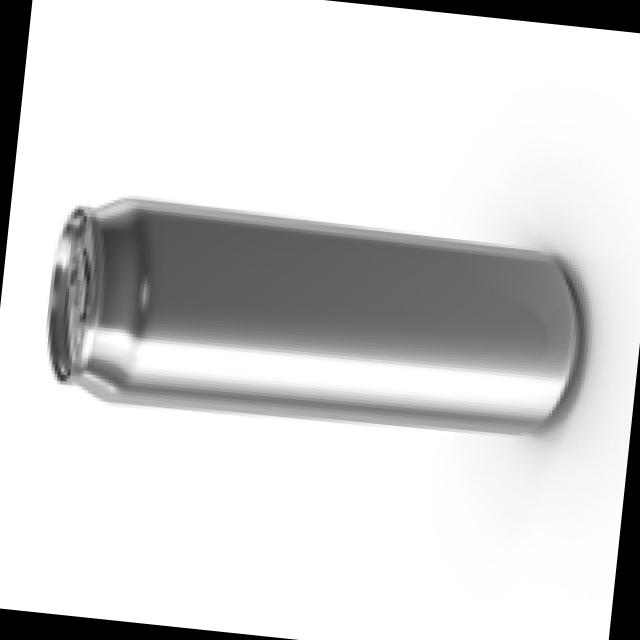soda_can: (24, 184, 601, 470)
